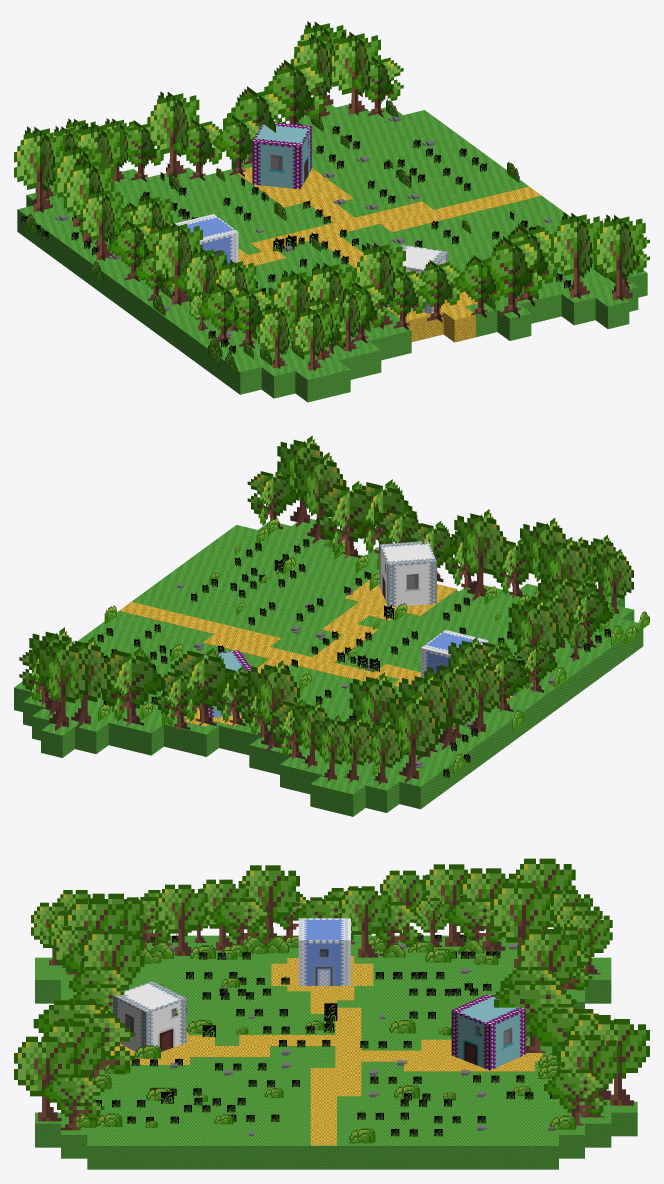
Rendered from Escenario4.fbx.
3 views of the same model, one above another, from view 1: azimuth 30°, elevation 25°; view 2: azimuth 150°, elevation 25°; view 3: azimuth 270°, elevation 25° (orthographic). The views are drawn at different scales.
Visible parts, largest first — view 1: Cube.004, Cube.020, Cube.019, Cube.018, Cube, Cube.021, Cube.024, Cube.011, Cube.017, Cube.016, Arbol2Resized.009, Arbol1Resized.028 (+56 smaller); view 2: Cube.004, Cube.019, Cube.020, Cube.018, Cube.022, Cube.021, Cube.024, Cube.016, Cube.011, Cube.017, Arbol2Resized.022, Arbol2Resized.018 (+56 smaller); view 3: Cube.024, Cube.021, Cube.020, Cube.019, Cube.007, Cube, Cube.017, Cube.022, Cube.016, Cube.018, Cube.023, Cube.006 (+61 smaller).
Part boxes in pixels (box(x1,y1,x2,y2)): Cube.004: box(17, 205, 261, 394); Cube.020: box(336, 104, 629, 328); Cube.019: box(303, 104, 595, 325); Cube.018: box(298, 115, 561, 321); Cube: box(252, 122, 311, 189); Cube.021: box(370, 107, 638, 311); Cube.024: box(403, 110, 647, 297); Cube.011: box(176, 167, 411, 357); Cube.017: box(312, 132, 540, 323); Cube.016: box(312, 153, 531, 340); Arbol2Resized.009: box(479, 236, 546, 318); Arbol1Resized.028: box(593, 214, 645, 301); Cube.004: box(399, 619, 643, 809); Cube.019: box(41, 535, 332, 757); Cube.020: box(32, 518, 316, 740); Cube.018: box(75, 545, 334, 753); Cube.022: box(379, 541, 436, 606); Cube.021: box(23, 521, 291, 726); Cube.024: box(14, 525, 257, 711); Cube.016: box(130, 547, 379, 755); Cube.011: box(249, 585, 492, 772); Cube.017: box(108, 552, 364, 750); Arbol2Resized.022: box(316, 481, 383, 558); Arbol2Resized.018: box(102, 647, 165, 725); Cube.024: box(87, 1135, 558, 1169); Cube.021: box(61, 1123, 584, 1158); Cube.020: box(35, 1112, 611, 1147); Cube.019: box(76, 1101, 637, 1136); Cube.007: box(35, 968, 611, 1003); Cube: box(451, 994, 525, 1070); Cube.017: box(104, 1079, 551, 1090); Cube.022: box(112, 981, 186, 1051); Cube.016: box(88, 1068, 551, 1079); Cube.018: box(88, 1090, 611, 1101); Cube.023: box(298, 918, 350, 985); Cube.006: box(35, 957, 611, 968).
Size of the model in its own units: 1958 by 468 by 2427.
11 materials, 10 textured.
